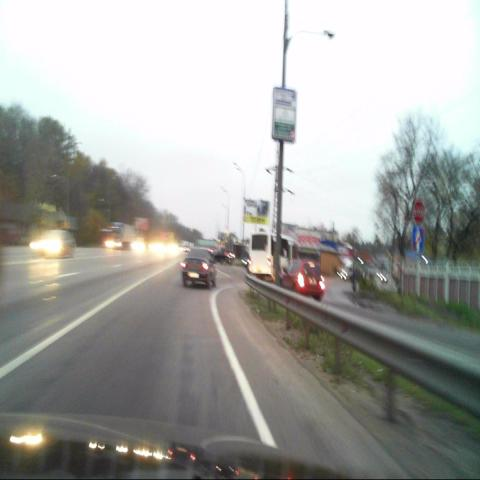2_5: (413, 200, 425, 224)
5_6: (412, 227, 424, 253)
